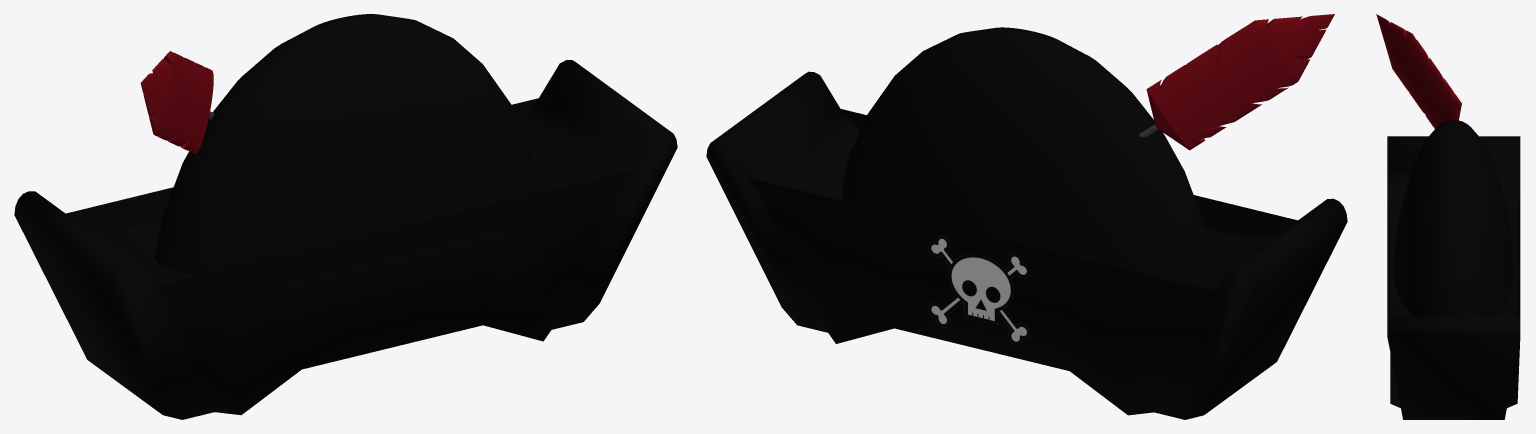
The model's file is Pirate hat 2.glb.
3 renders of one model, left to right at view 1: azimuth 30°, elevation 25°; view 2: azimuth 150°, elevation 25°; view 3: azimuth 270°, elevation 25°, orthographic. The views are drawn at different scales.
Parts seen in each view (by area): view 1: Pirate hat; view 2: Pirate hat; view 3: Pirate hat.
Part boxes in pixels (box(x1,y1,x2,y2)): Pirate hat: box(14, 14, 677, 419); Pirate hat: box(706, 14, 1347, 419); Pirate hat: box(1376, 14, 1520, 419).
Bounding box in the file's own units: 0.6848 × 0.4237 × 0.2222.
Materials: 4 (1 with a texture image).
